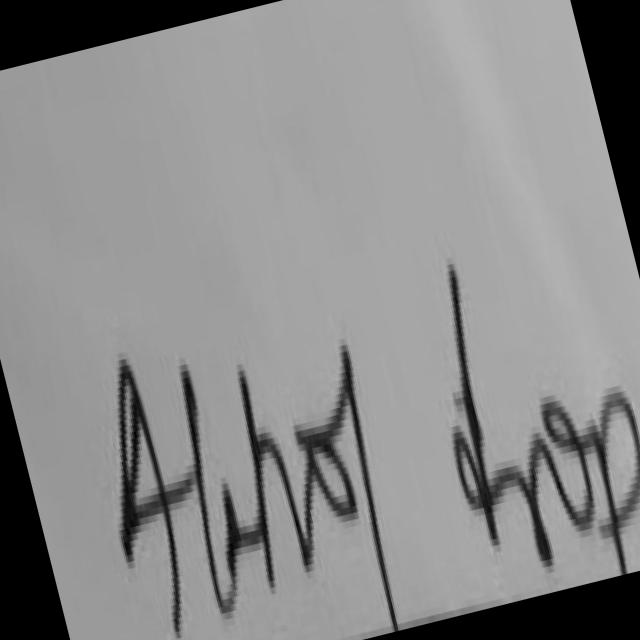A: (55, 280, 212, 640)
a: (203, 460, 269, 610)
d: (390, 222, 535, 587)
l: (314, 318, 424, 632), (152, 345, 235, 640)
o: (512, 337, 608, 549), (279, 346, 368, 554)
p: (559, 329, 640, 576)
r: (489, 399, 574, 584), (250, 398, 334, 583)
t: (205, 339, 307, 622)
